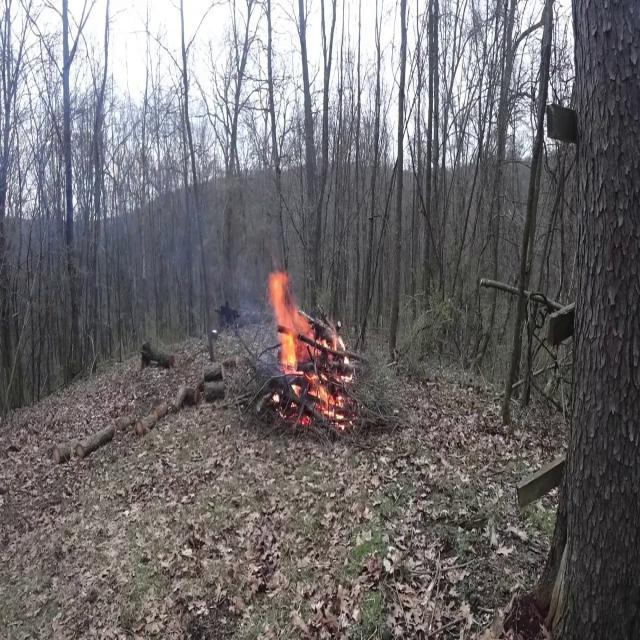Fire: (262, 261, 354, 418), (264, 262, 306, 394)
